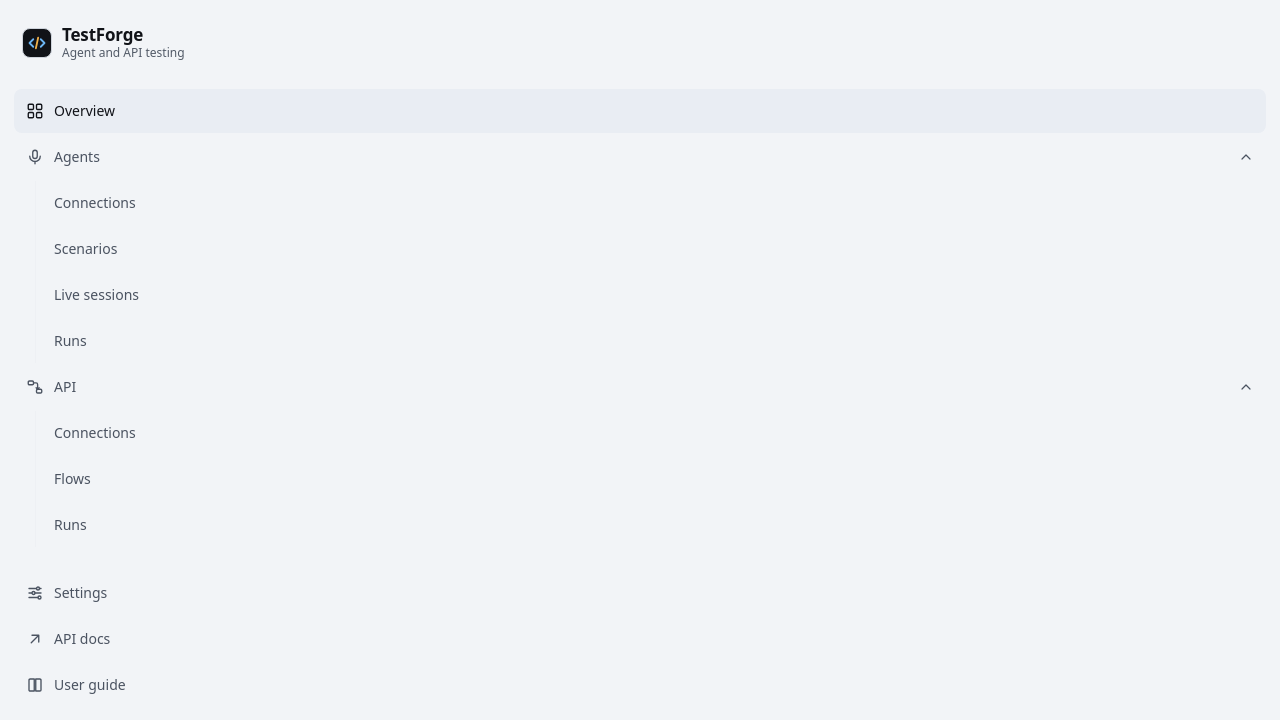
it: Sidebar › still works when the browser refuses to store the choice
This screenshot has width=1280, height=720.
Click the button "Agents". click: point(77, 157)
box: [14,135,1266,179]
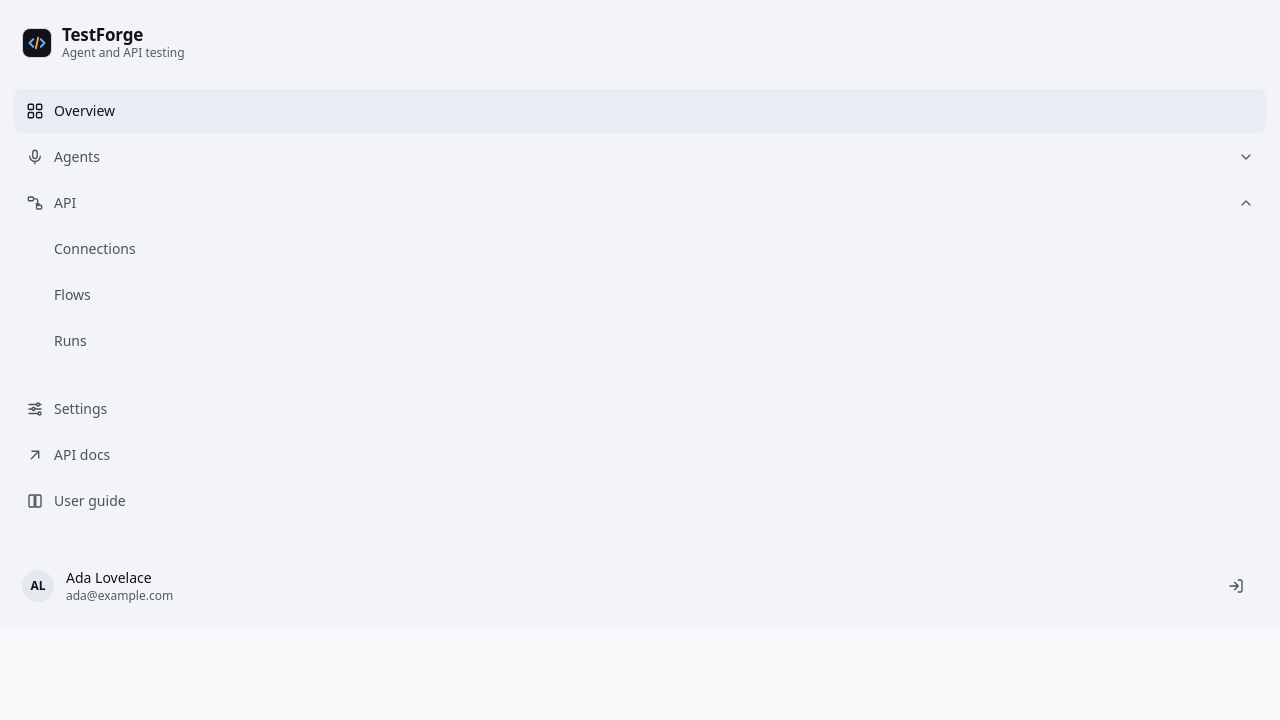
Now the button "Agents" is collapsed
Click the button "Agents". click: point(77, 157)
box: [14,135,1266,179]
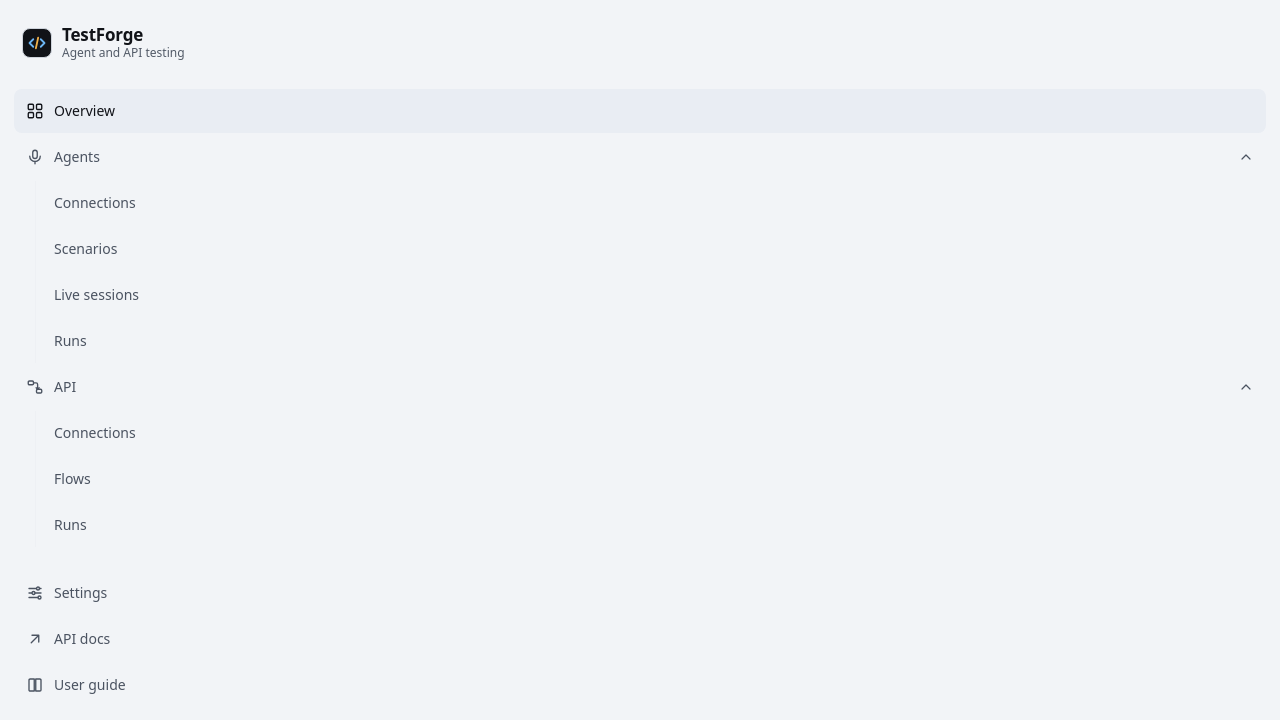
Now the button "Agents" is expanded, box [14,135,1266,179]
